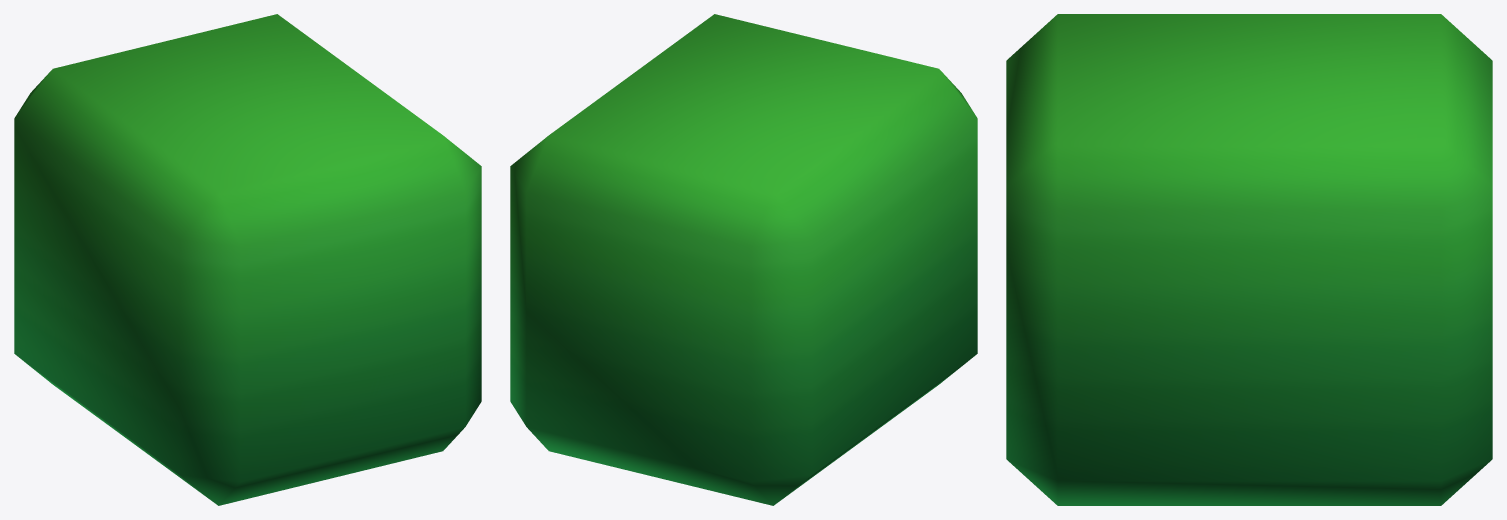
Rendered from Bush_1_B_3.fbx.
3 renders of one model, left to right at view 1: azimuth 30°, elevation 25°; view 2: azimuth 150°, elevation 25°; view 3: azimuth 270°, elevation 25°, orthographic. The views are drawn at different scales.
Parts seen in each view (by area): view 1: Bush_1_B_3; view 2: Bush_1_B_3; view 3: Bush_1_B_3.
Boxes of the visible parts, left/top/right/bottom form: Bush_1_B_3: left=14, top=14, right=481, bottom=505; Bush_1_B_3: left=510, top=14, right=977, bottom=505; Bush_1_B_3: left=1006, top=14, right=1492, bottom=505.
Size of the model in its own units: 61.94 by 61.94 by 74.78.
